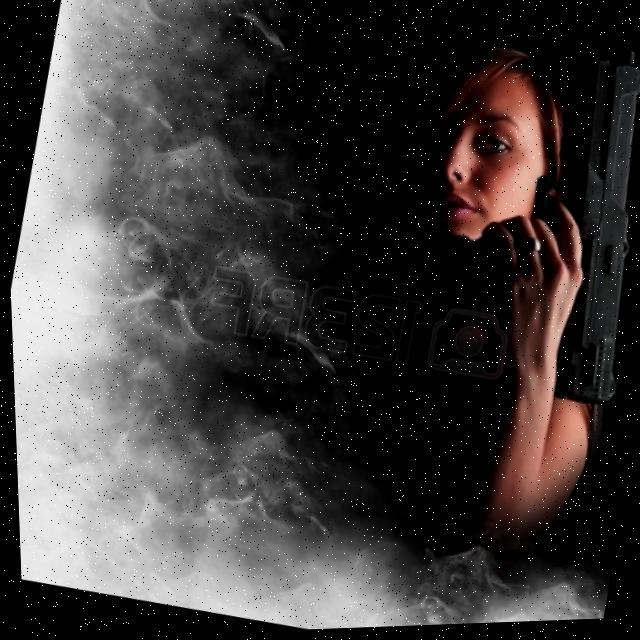firearm: (487, 40, 640, 415)
